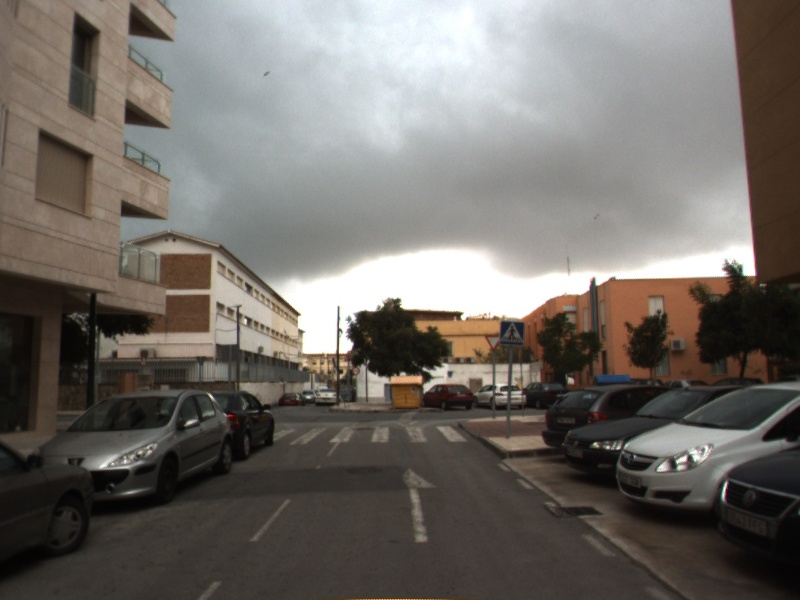STRAIGHT: (401, 465, 440, 545)
